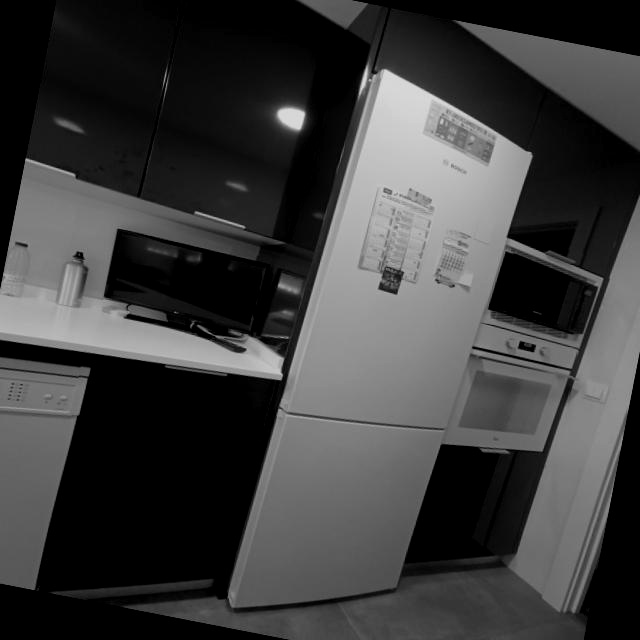cabinet: (25, 0, 346, 243), (364, 6, 640, 278), (38, 354, 281, 593), (406, 443, 547, 575)
countertop: (0, 293, 282, 383)
fridge: (228, 71, 533, 613)
microwave: (483, 239, 603, 350)
monitor: (104, 230, 271, 341)
oven: (442, 324, 578, 456)
